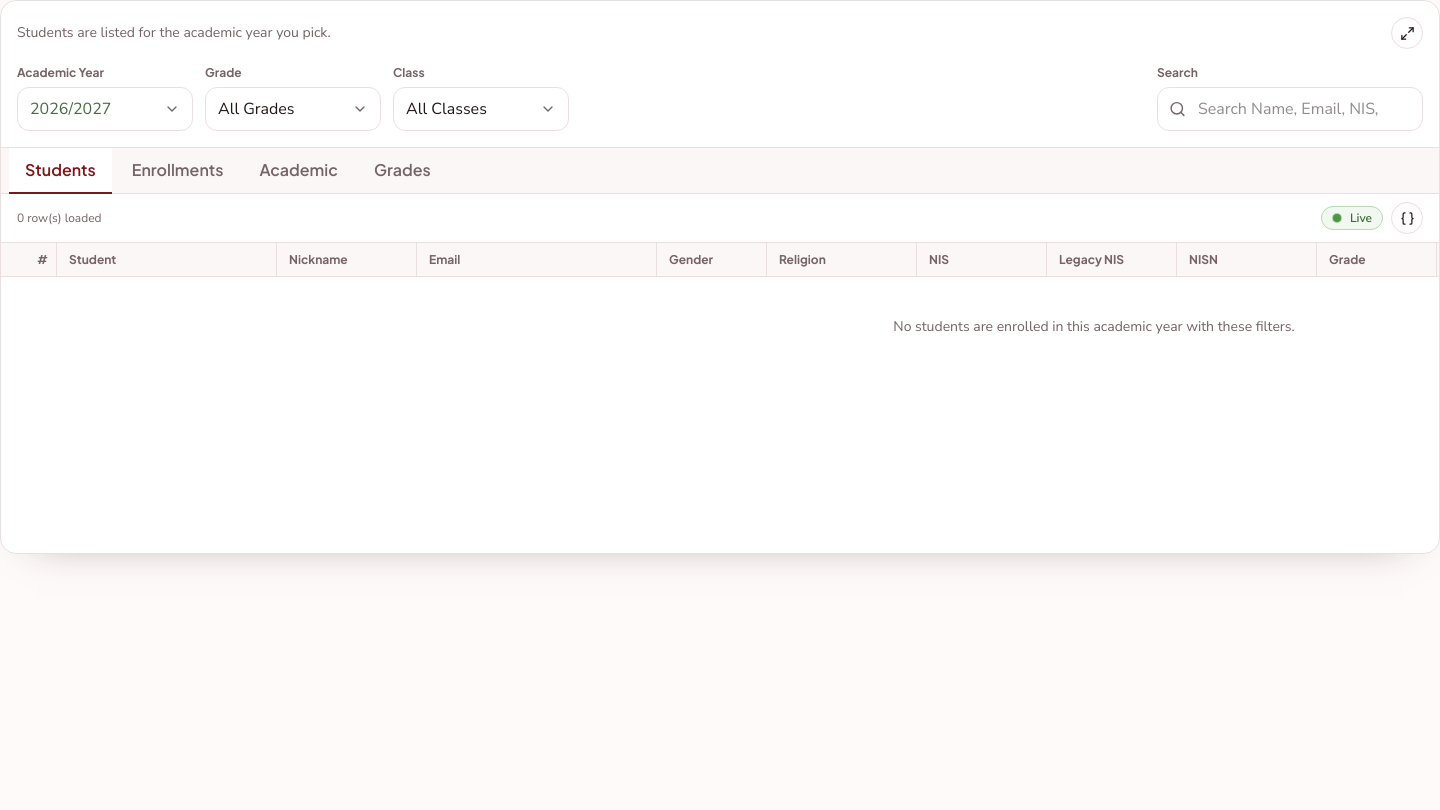
Scenario: WorkspaceTable › moves to another year with its own classes and brings the default back on Reset
Click the button "2026/2027" at {"x": 105, "y": 109}, box [17,87,193,131]
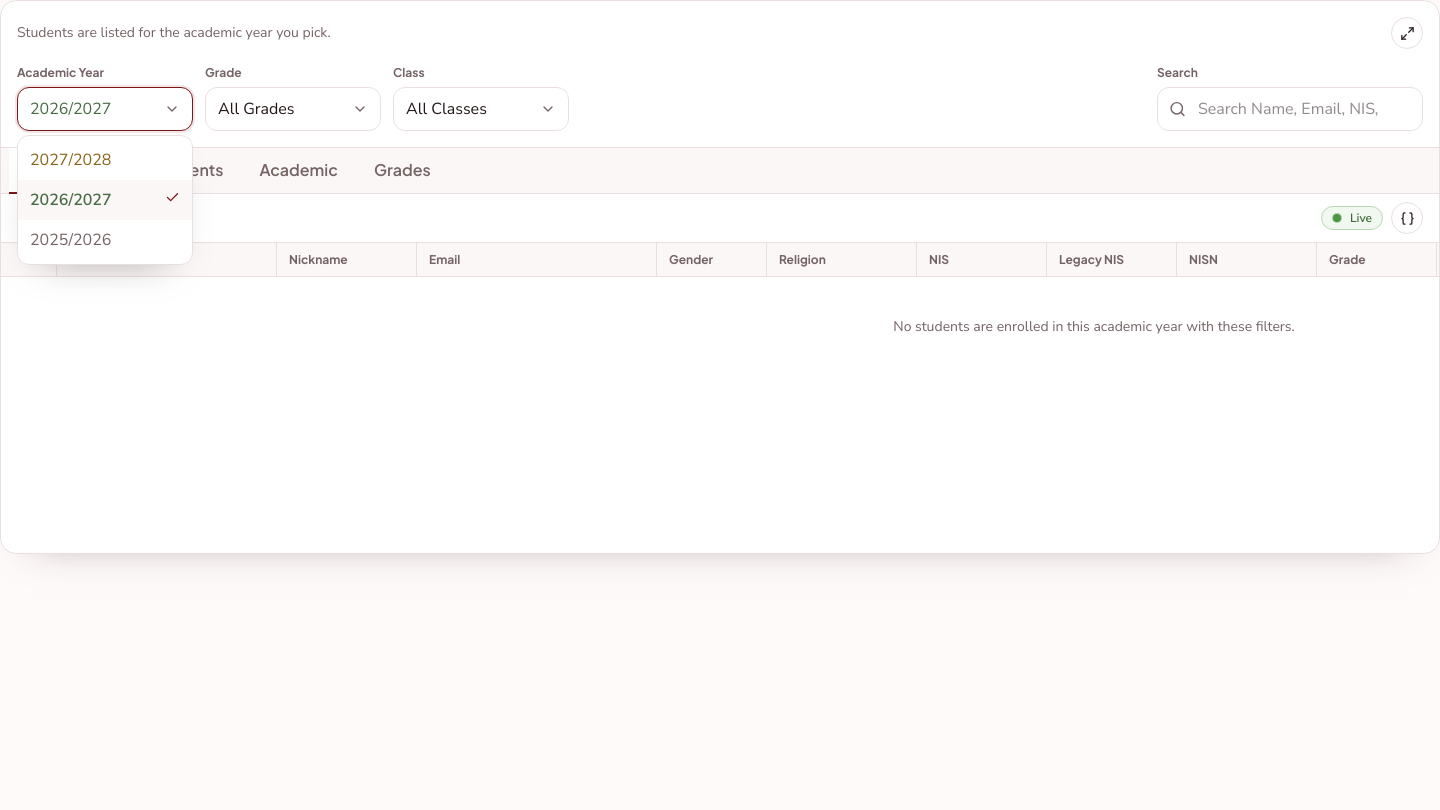
Click the option "2025/2026" at {"x": 105, "y": 240}, box [18,220,192,260]
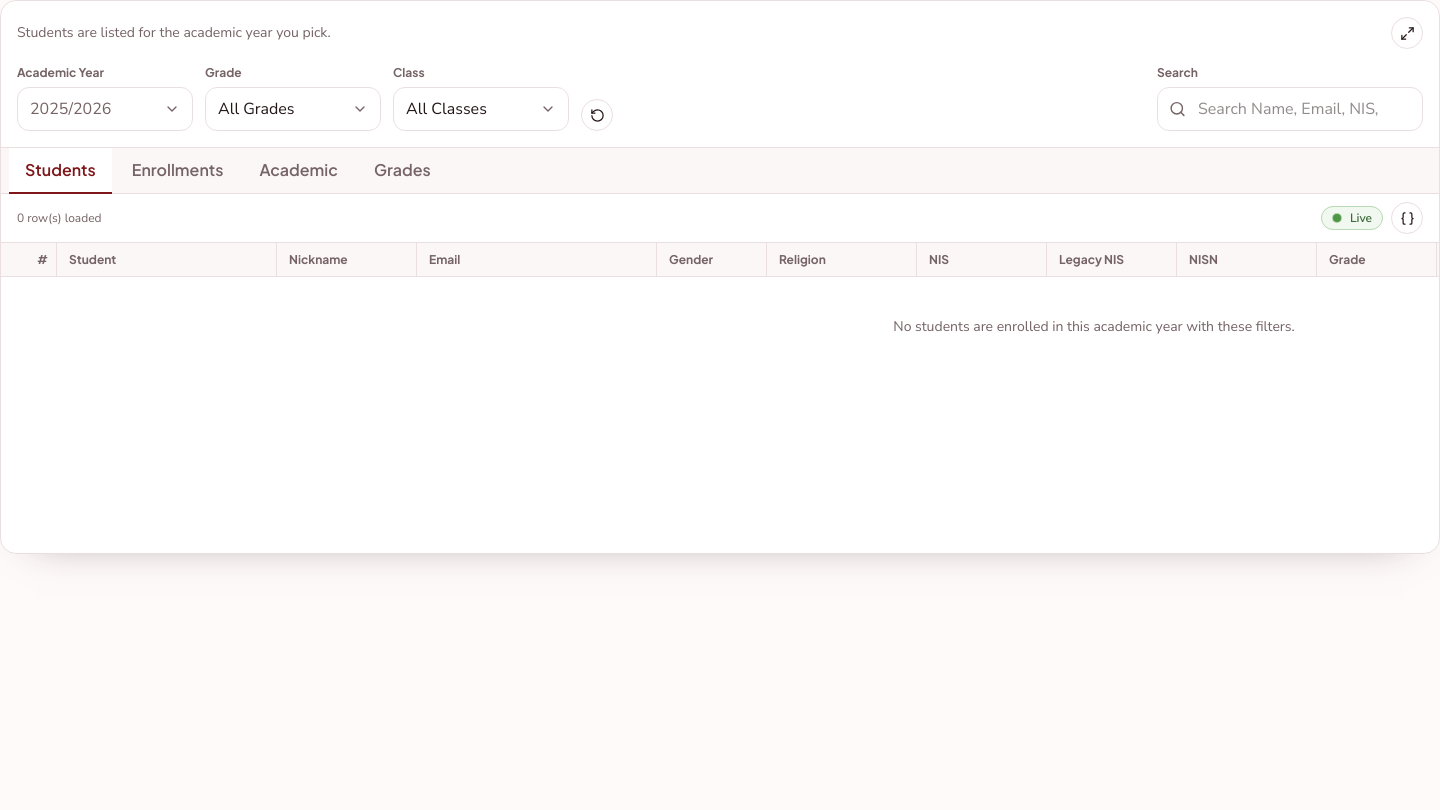
Click the button "All Classes" at {"x": 481, "y": 109}, box [393,87,569,131]
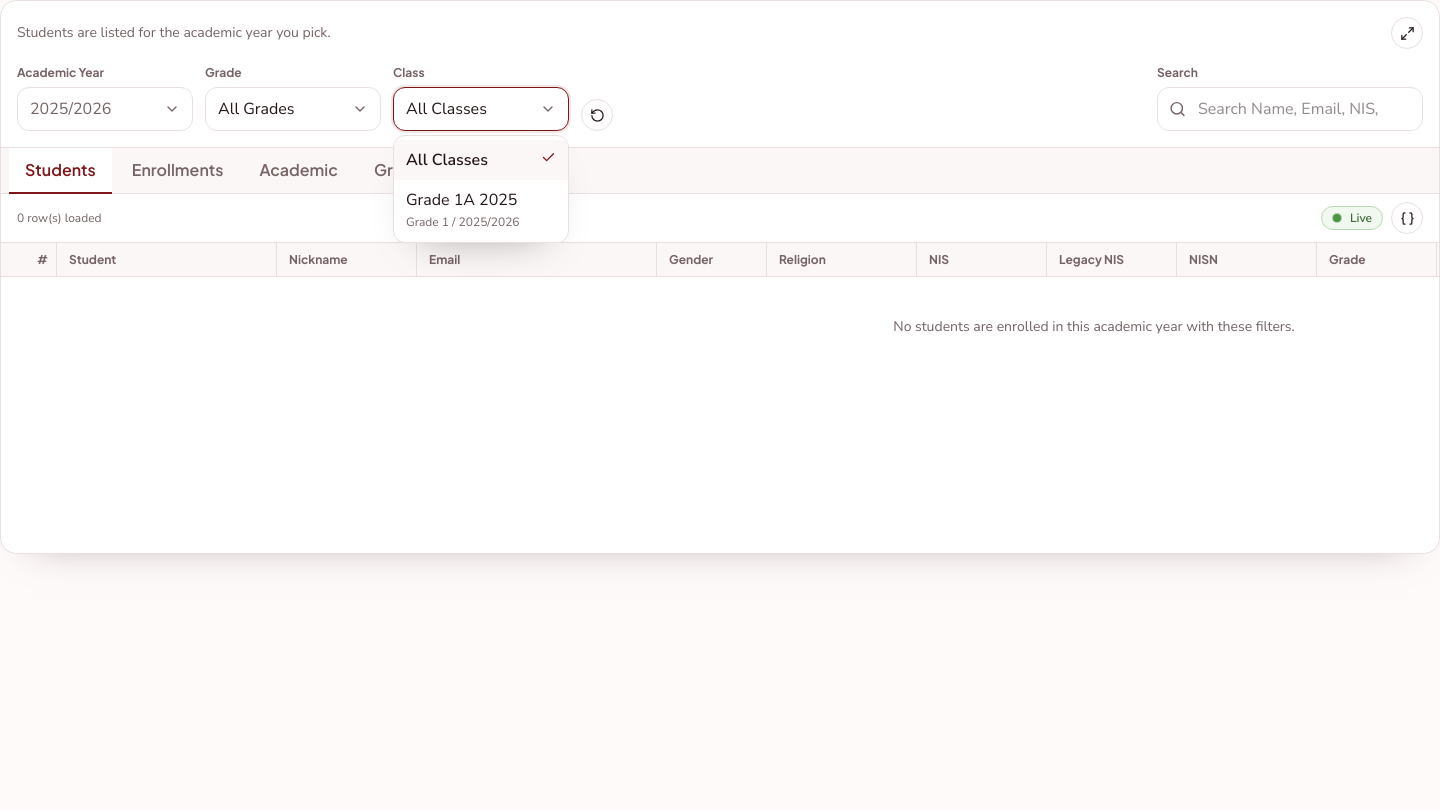
Expected: the option "Grade 1A 2025 Grade 1 / 2025/2026" is shown, [394,180,568,238]
Press Escape
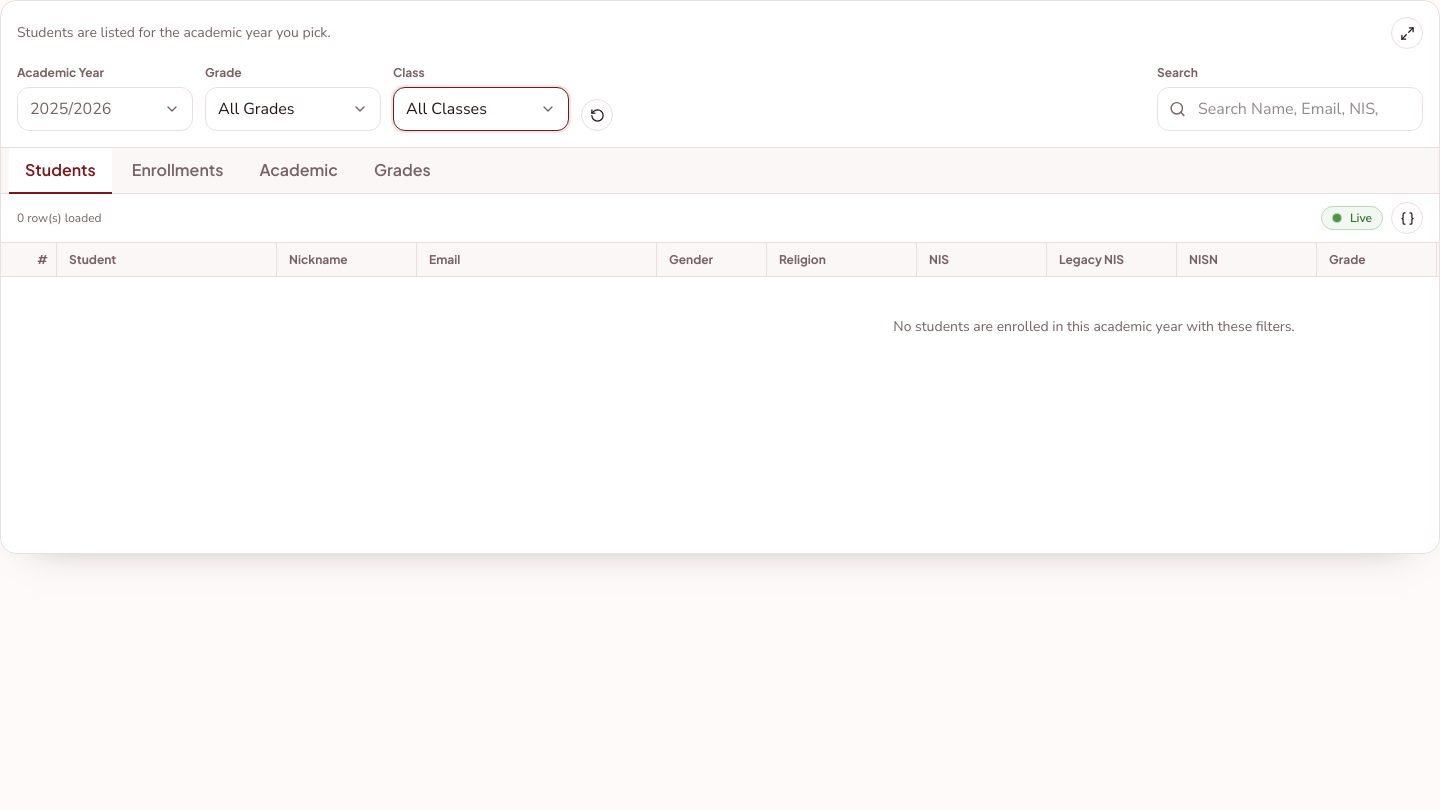
Click the button named "Reset" at {"x": 597, "y": 115}, box [581,99,613,131]
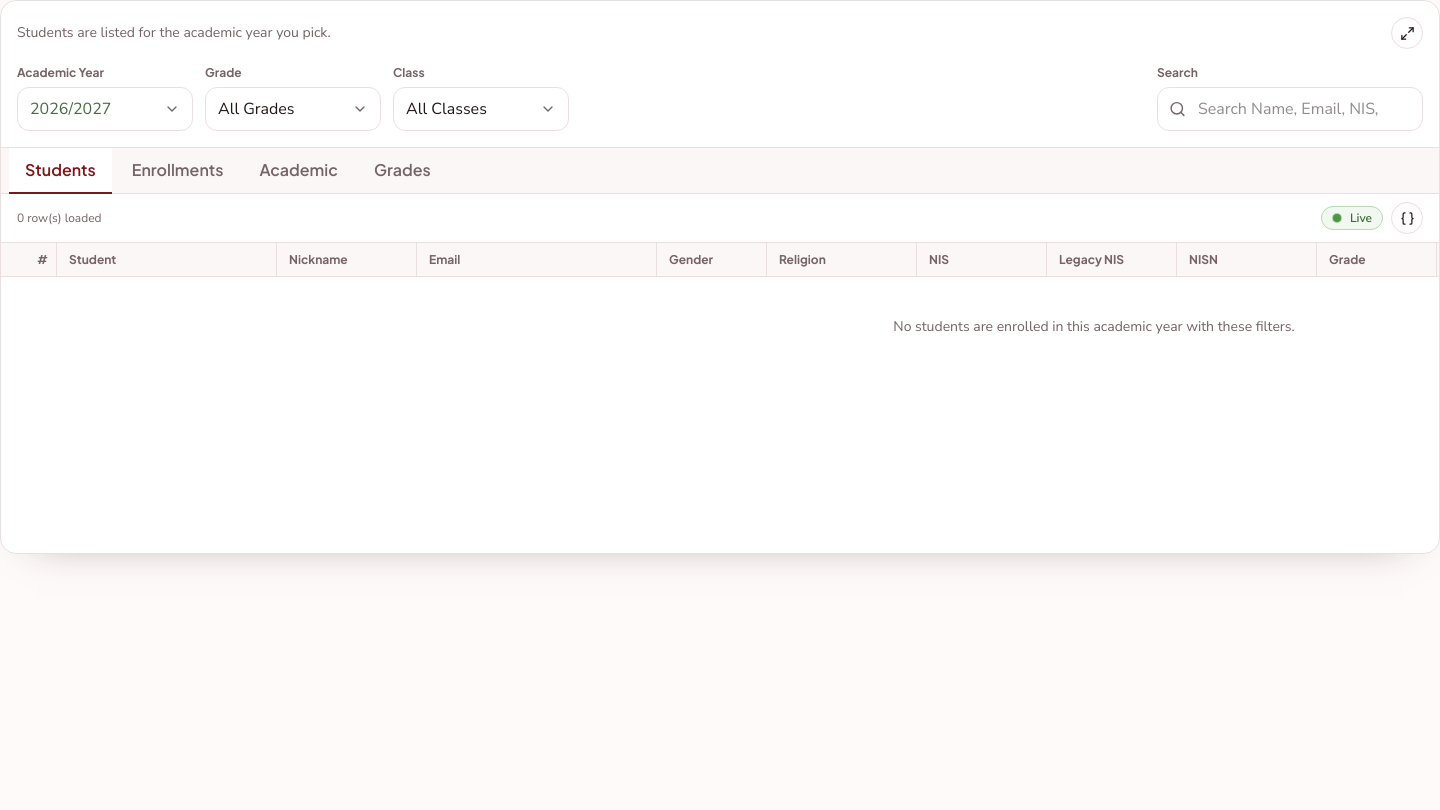
Expected: the button "2026/2027" is shown, [17,87,193,131]
